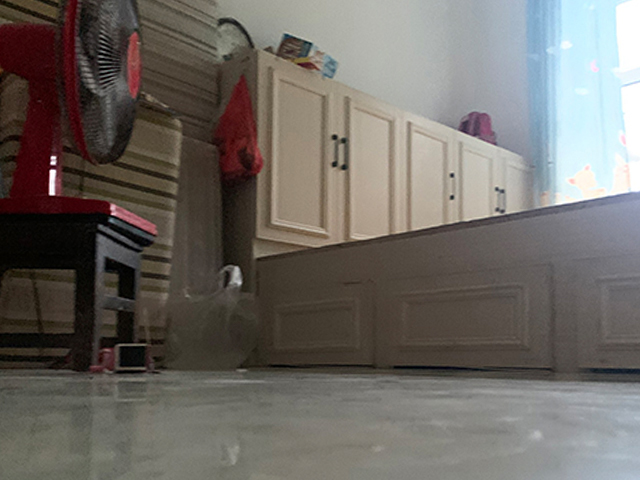bed: (225, 191, 640, 377)
curtain: (524, 1, 629, 208)
stool: (1, 192, 157, 372)
